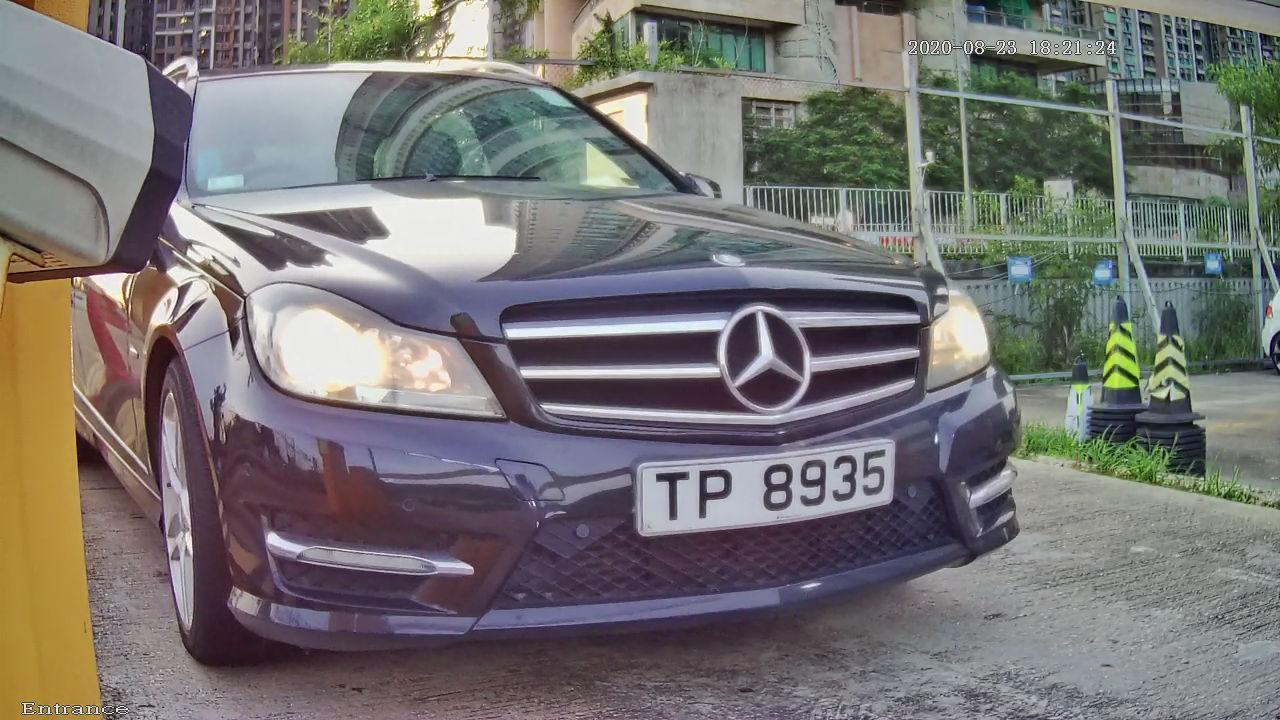Car: (12, 20, 1121, 679)
License Plate: (587, 408, 943, 555)
